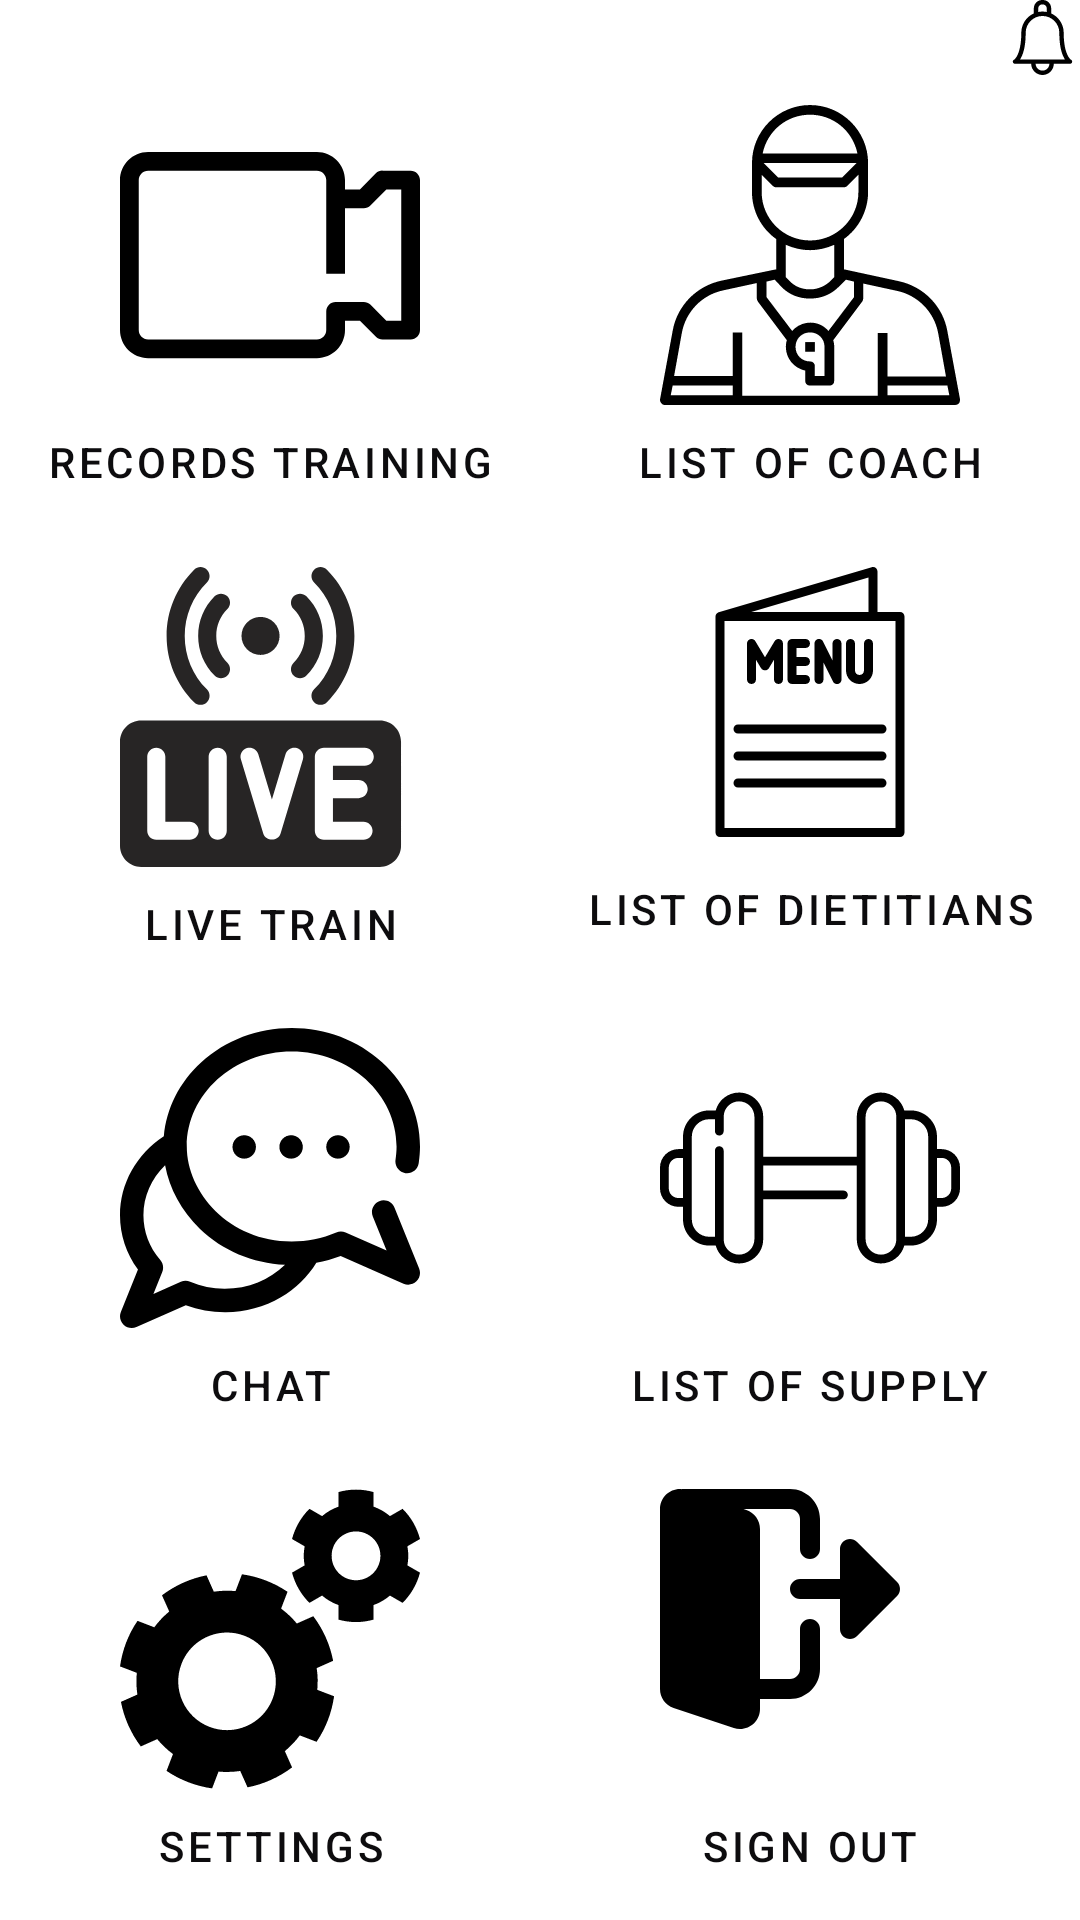

Point at icon controls on the screen. Image size 1080*1920, points as (x,y).
bell: (1042,37)
